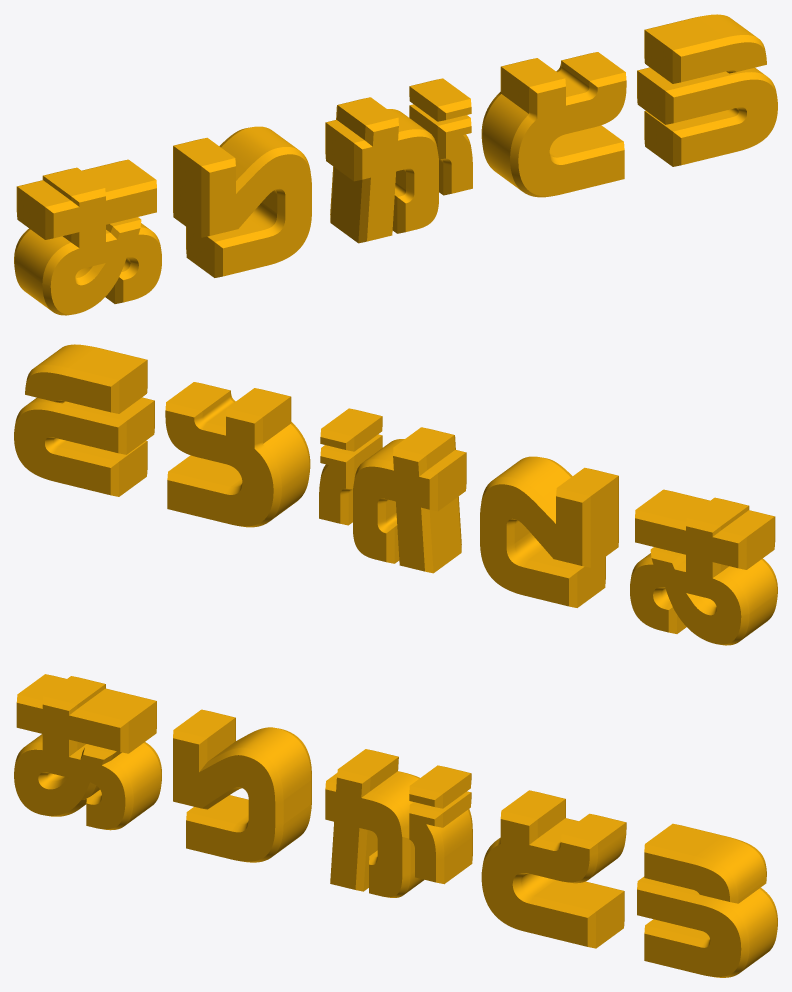
Rendered from asset.gltf.
3 renders of one model, top to bottom at view 1: azimuth 30°, elevation 25°; view 2: azimuth 150°, elevation 25°; view 3: azimuth 330°, elevation 25°, orthographic.
Parts seen in each view (by area): view 1: あ, が, う, り, と; view 2: あ, が, う, り, と; view 3: あ, が, う, り, と.
Part boxes in pixels (bbox=[...]): あ: bbox=[14, 159, 161, 315]; が: bbox=[325, 78, 472, 243]; う: bbox=[637, 14, 777, 166]; り: bbox=[173, 126, 311, 277]; と: bbox=[481, 52, 626, 197]; あ: bbox=[630, 489, 777, 645]; が: bbox=[319, 408, 466, 573]; う: bbox=[14, 344, 154, 496]; り: bbox=[480, 456, 618, 607]; と: bbox=[165, 382, 310, 527]; あ: bbox=[14, 674, 161, 830]; が: bbox=[325, 749, 472, 897]; う: bbox=[637, 823, 777, 977]; り: bbox=[173, 709, 311, 862]; と: bbox=[481, 790, 626, 948].
Bounding box in the file's own units: 5.87 × 0.905 × 0.5087.
